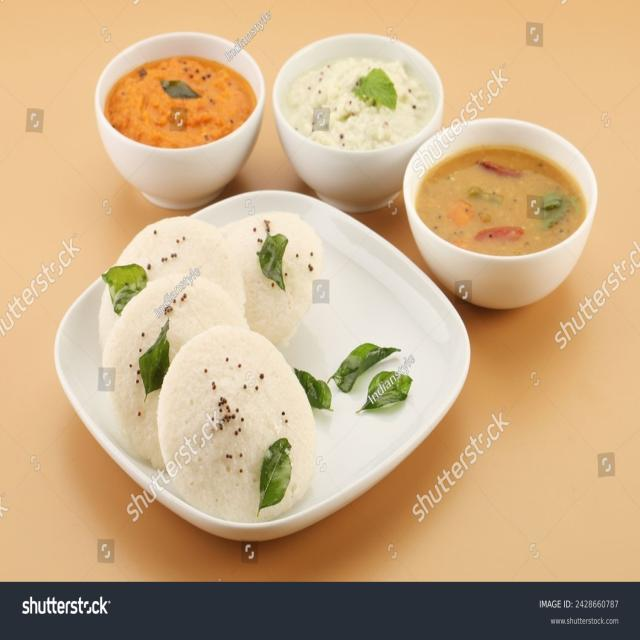IDLI: (98, 211, 325, 522)
